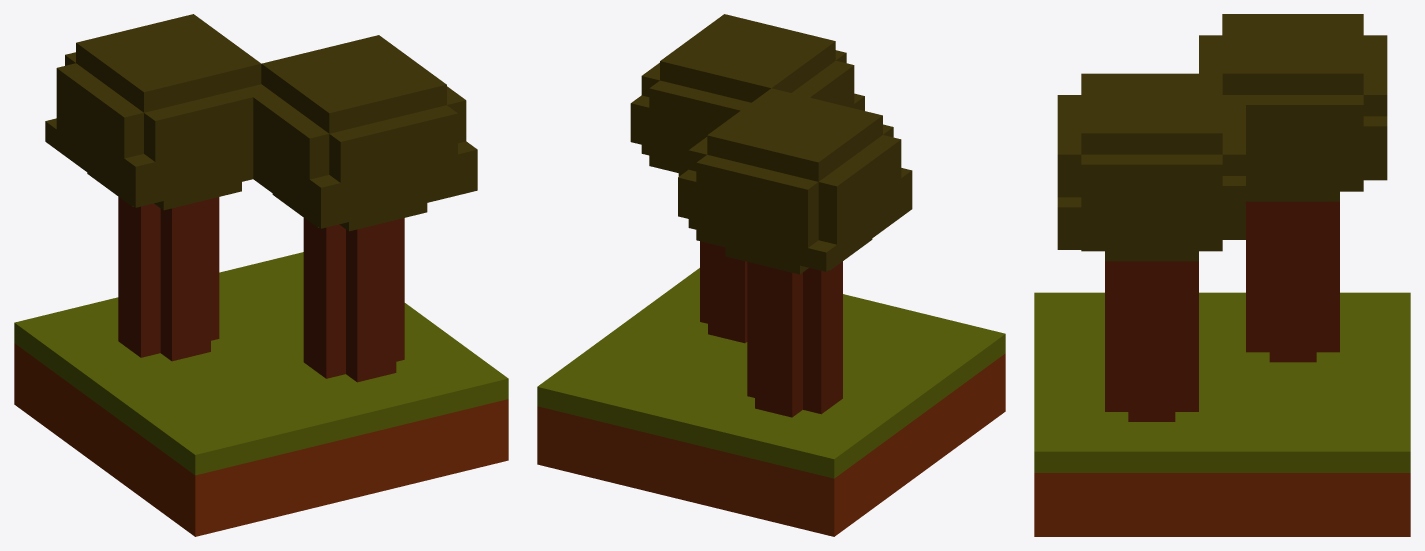
File: res_wood.gltf
The picture shows the model from 3 angles, left to right: view 1: azimuth 30°, elevation 25°; view 2: azimuth 150°, elevation 25°; view 3: azimuth 270°, elevation 25°; orthographic projection. The views are drawn at different scales.
Parts seen in each view (by area): view 1: Layer.1; view 2: Layer.1; view 3: Layer.1.
Boxes of the visible parts, box(x1,y1,x2,y2) form: Layer.1: box(14, 14, 508, 536); Layer.1: box(537, 14, 1005, 536); Layer.1: box(1034, 14, 1410, 536).
Size of the model in its own units: 16 by 18 by 16.
1 material, 1 textured.
